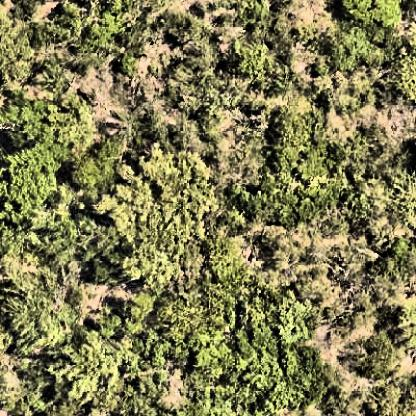tree-top: (94, 147, 203, 281), (241, 107, 345, 226), (48, 322, 128, 406), (324, 1, 408, 73), (3, 133, 66, 207), (1, 291, 68, 360), (68, 153, 121, 200)
